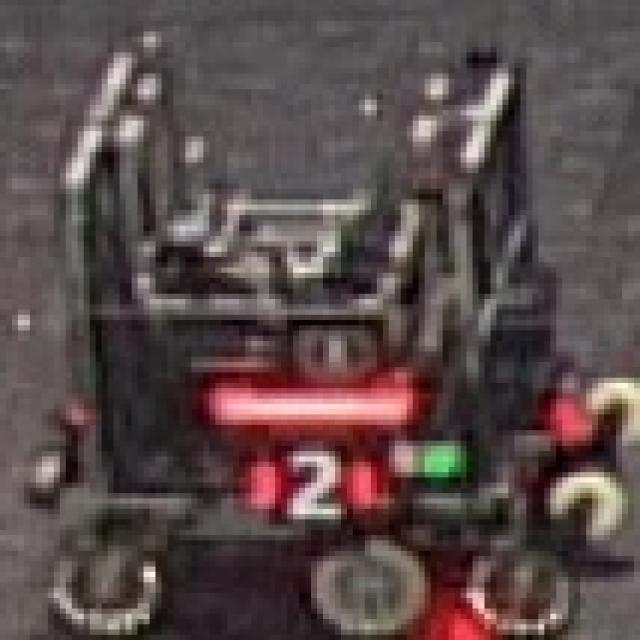R2: (227, 449, 389, 527), (535, 354, 625, 459)
